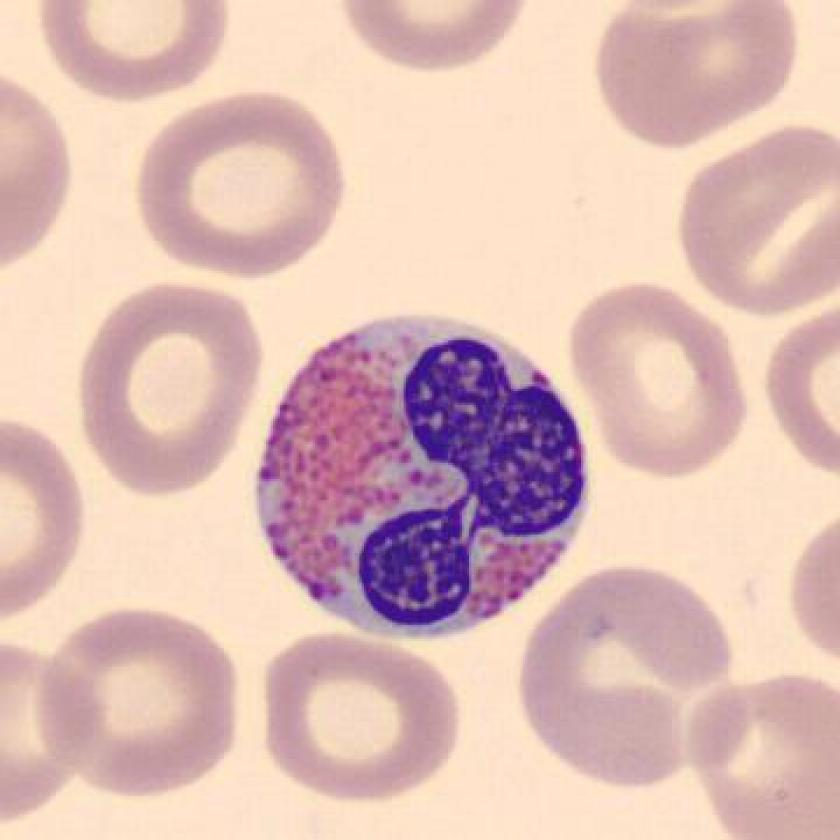eosinophil: (241, 304, 603, 654)
